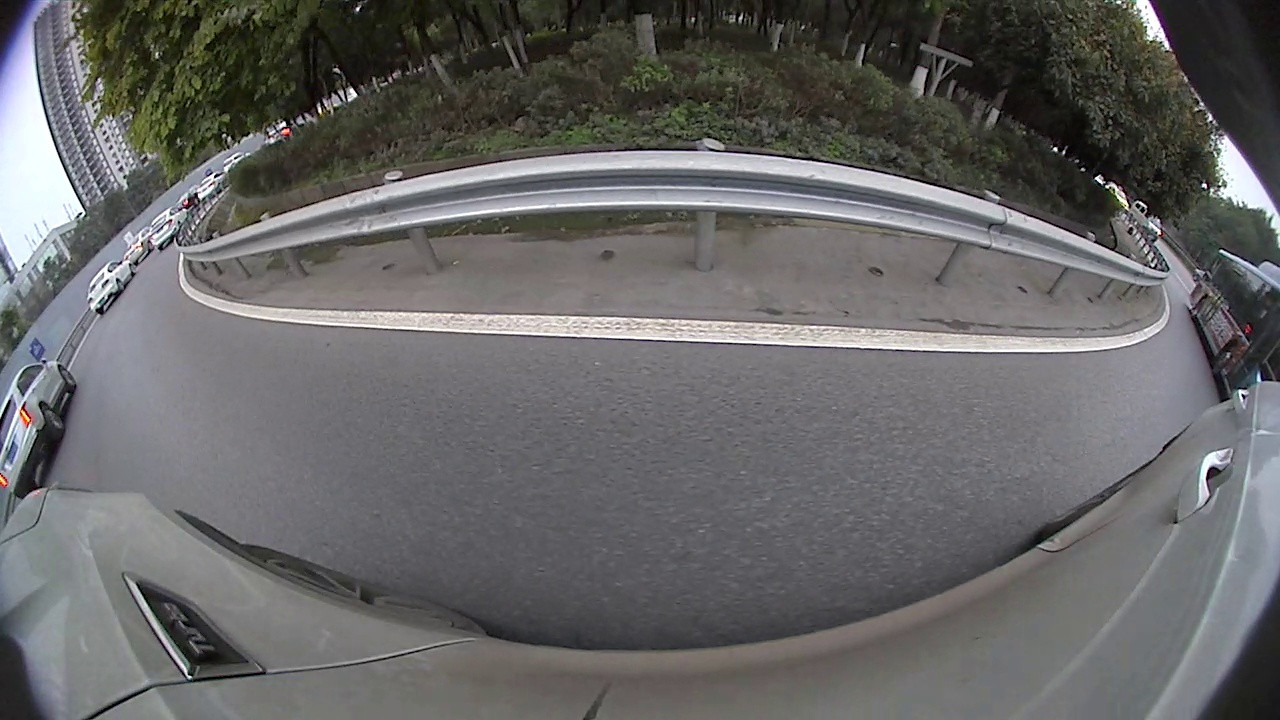bus: (1187, 249, 1279, 398)
car: (1, 359, 77, 496), (86, 257, 136, 316), (147, 205, 191, 247), (1131, 199, 1164, 237)
front: (1212, 340, 1239, 374), (58, 365, 79, 394)
rear: (41, 405, 69, 434), (1189, 292, 1209, 317), (115, 277, 125, 291)
